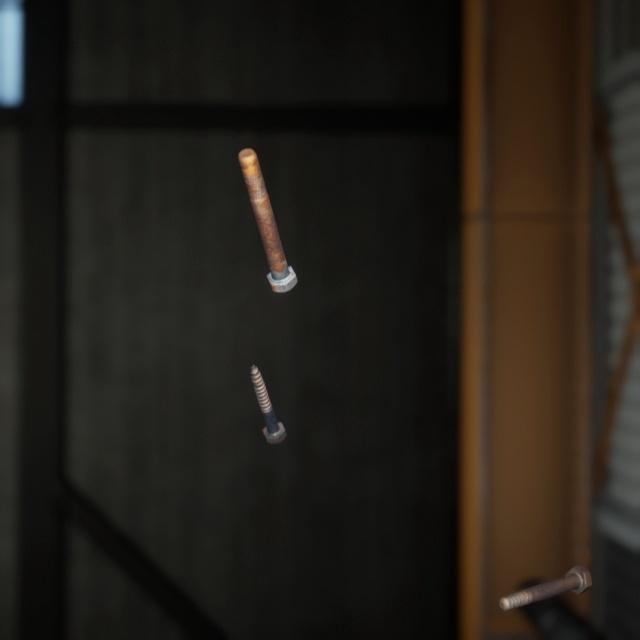bolt: (233, 127, 302, 281), (493, 538, 596, 592), (245, 340, 291, 428)
